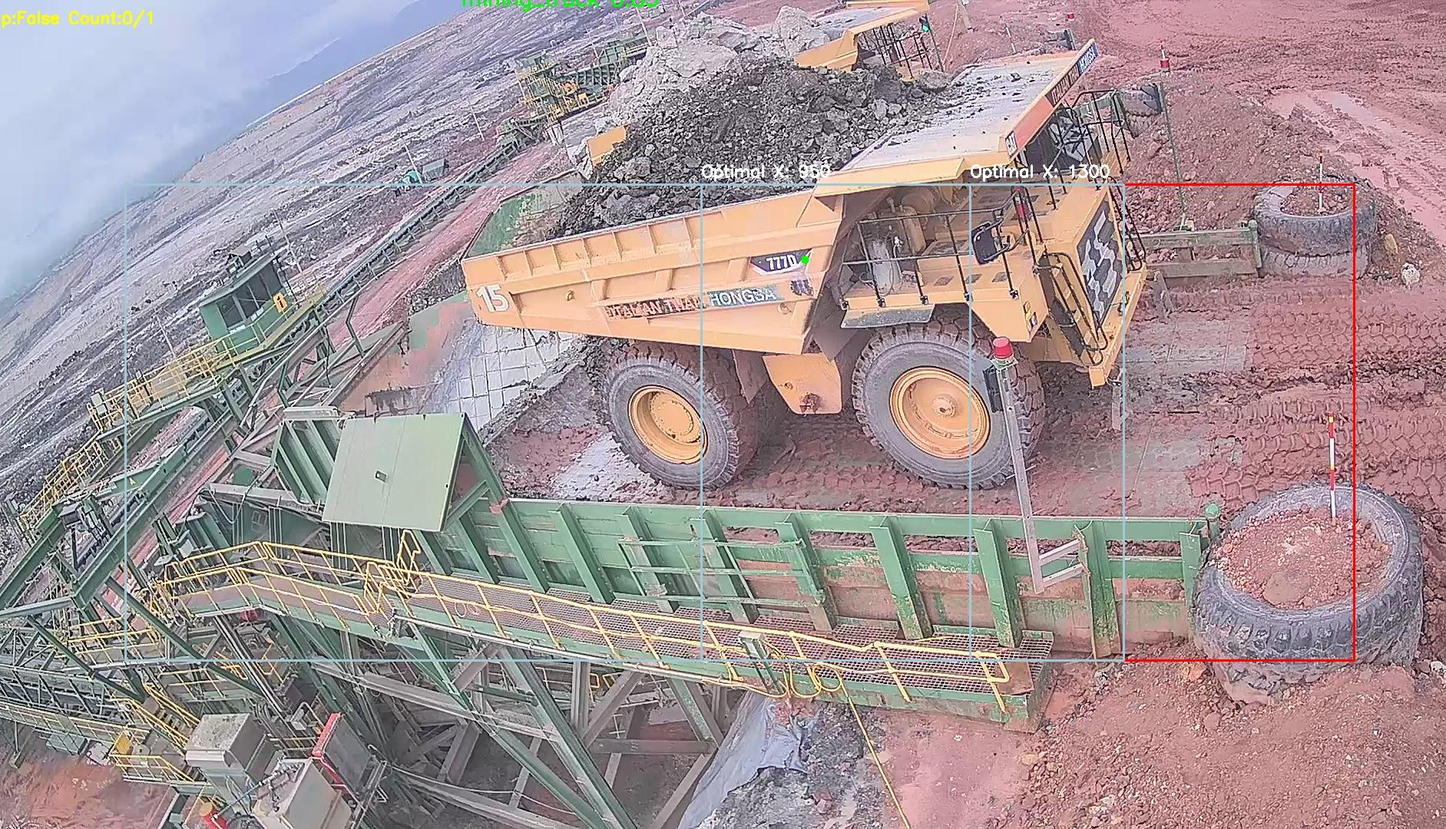company: (597, 281, 787, 321)
full_load: (549, 65, 860, 225)
mining_truck: (455, 43, 1166, 497)
tail_number: (472, 279, 512, 322)
truck_size: (754, 243, 813, 275)
